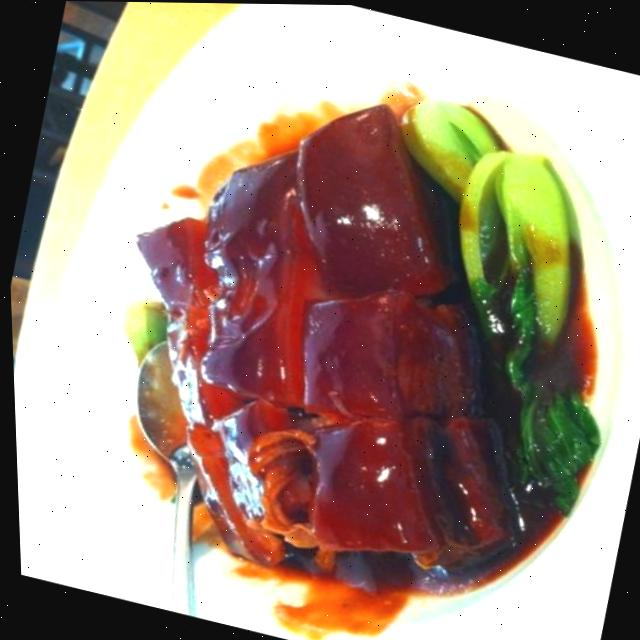牛肉菜式: (36, 35, 640, 640)
